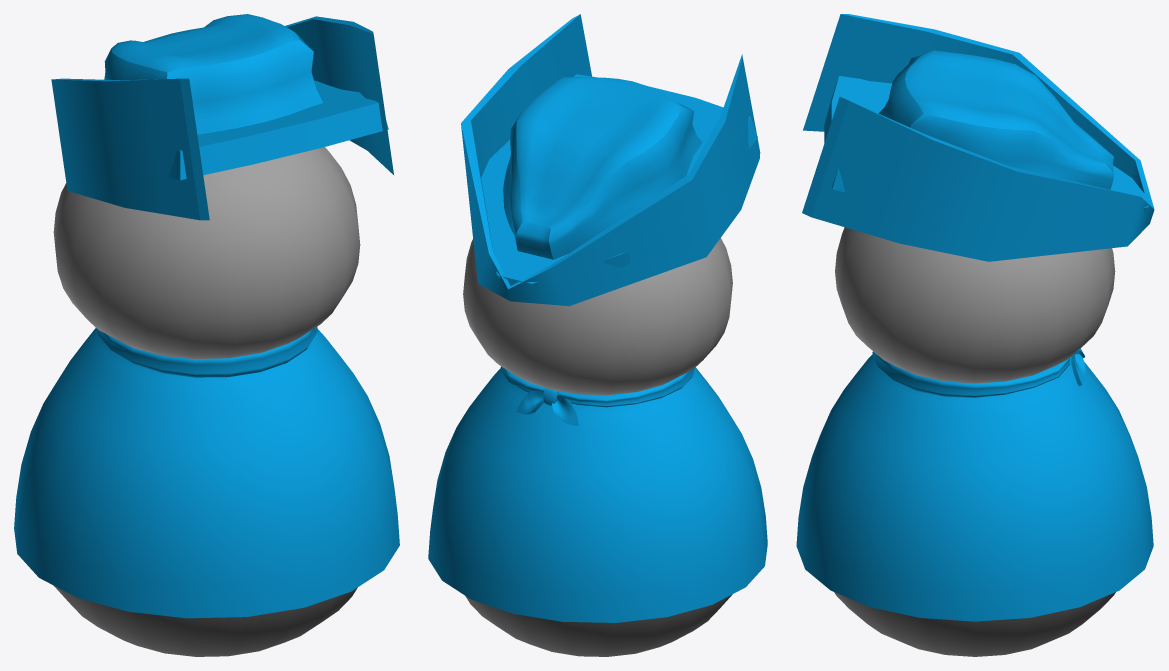
The model's file is Player.fbx.
The picture shows the model from 3 angles, left to right: view 1: azimuth 30°, elevation 25°; view 2: azimuth 150°, elevation 25°; view 3: azimuth 270°, elevation 25°; orthographic projection. The views are drawn at different scales.
Visible parts, largest first — view 1: pCylinder2, pSphere2, sweep3, pCube8, pSphere1, pCube12, pTorus1; view 2: pCylinder2, sweep3, pCube8, pSphere2, pSphere1, pCube12, pTorus1, pCube6; view 3: pCylinder2, sweep3, pSphere2, pCube8, pSphere1, pTorus1, pCube12.
Part boxes in pixels (left/top/right/bottom): pCylinder2: left=14, top=328, right=399, bottom=618; pSphere2: left=53, top=147, right=360, bottom=359; sweep3: left=51, top=16, right=393, bottom=220; pCube8: left=104, top=14, right=322, bottom=134; pSphere1: left=53, top=585, right=357, bottom=656; pCube12: left=168, top=80, right=388, bottom=180; pTorus1: left=97, top=327, right=317, bottom=377; pCylinder2: left=428, top=367, right=767, bottom=622; sweep3: left=461, top=14, right=760, bottom=306; pCube8: left=503, top=77, right=702, bottom=259; pSphere2: left=463, top=238, right=732, bottom=394; pSphere1: left=465, top=594, right=732, bottom=656; pCube12: left=481, top=74, right=757, bottom=288; pTorus1: left=500, top=366, right=694, bottom=407; pCube6: left=552, top=395, right=578, bottom=425; pCylinder2: left=796, top=354, right=1153, bottom=621; sweep3: left=802, top=14, right=1154, bottom=261; pSphere2: left=835, top=227, right=1115, bottom=383; pCube8: left=879, top=50, right=1113, bottom=189; pSphere1: left=834, top=592, right=1115, bottom=656; pTorus1: left=872, top=351, right=1069, bottom=397; pCube12: left=824, top=76, right=1148, bottom=212.
Size of the model in its own units: 1.02 by 1.84 by 1.02.
